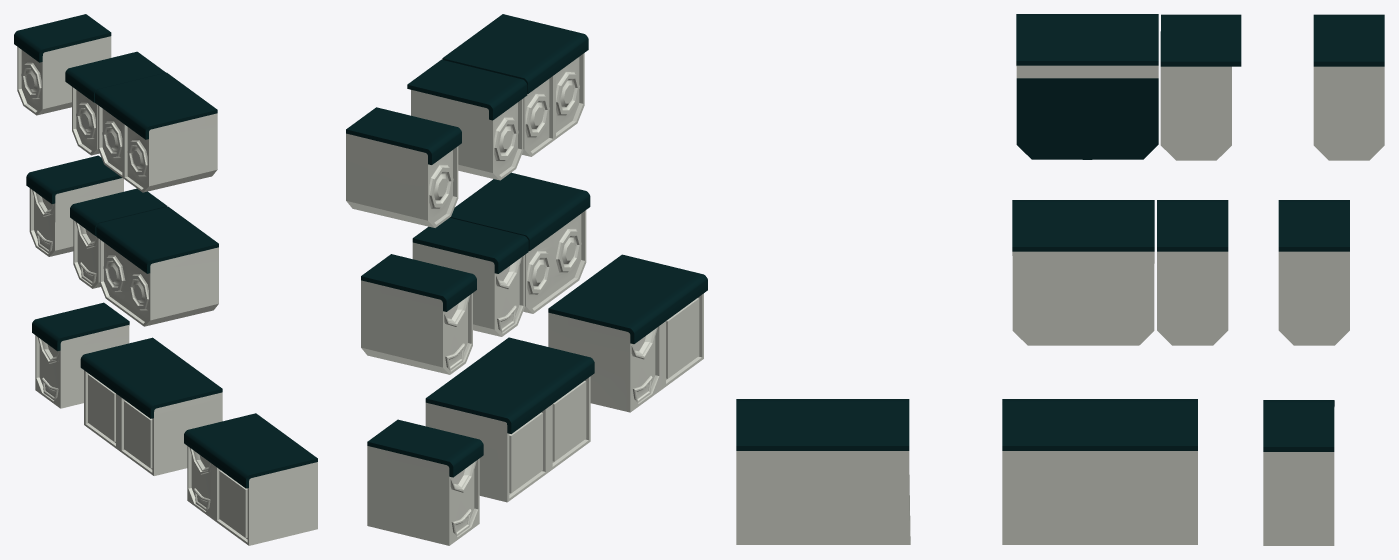
Rendered from cocineta.fbx.
3 renders of one model, left to right at view 1: azimuth 30°, elevation 25°; view 2: azimuth 150°, elevation 25°; view 3: azimuth 270°, elevation 25°, orthographic. The views are drawn at different scales.
Visible parts, largest first — view 1: CStanteria9, CStanteria8, CStanteria4, CStanteria1, CStanteria6, CStanteria7, CStanteria3, CStanteria5, CStanteria2; view 2: CStanteria8, CStanteria9, CStanteria7, CStanteria6, CStanteria3, CStanteria4, CStanteria1, CStanteria5, CStanteria2; view 3: CStanteria8, CStanteria9, CStanteria4, CStanteria1, CStanteria5, CStanteria7, CStanteria6, CStanteria2, CStanteria3.
Boxes of the visible parts, x1,y1,x2,y2 form: CStanteria9: [184, 413, 317, 545]; CStanteria8: [80, 337, 222, 475]; CStanteria4: [95, 72, 217, 192]; CStanteria1: [96, 206, 218, 326]; CStanteria6: [14, 14, 111, 115]; CStanteria7: [32, 302, 129, 408]; CStanteria3: [26, 155, 123, 256]; CStanteria5: [65, 51, 165, 155]; CStanteria2: [70, 188, 167, 288]; CStanteria8: [425, 337, 594, 502]; CStanteria9: [548, 254, 707, 412]; CStanteria7: [367, 419, 483, 545]; CStanteria6: [346, 107, 461, 227]; CStanteria3: [361, 254, 476, 374]; CStanteria4: [442, 14, 588, 156]; CStanteria1: [450, 172, 590, 313]; CStanteria5: [407, 59, 527, 180]; CStanteria2: [412, 217, 528, 336]; CStanteria8: [1002, 399, 1197, 544]; CStanteria9: [736, 399, 910, 544]; CStanteria4: [1016, 14, 1158, 159]; CStanteria1: [1012, 200, 1154, 345]; CStanteria5: [1160, 14, 1241, 160]; CStanteria7: [1263, 400, 1334, 545]; CStanteria6: [1313, 14, 1384, 160]; CStanteria2: [1157, 200, 1228, 345]; CStanteria3: [1278, 200, 1349, 345].
Bounding box in the file's own units: 330 × 1519 × 1841.
